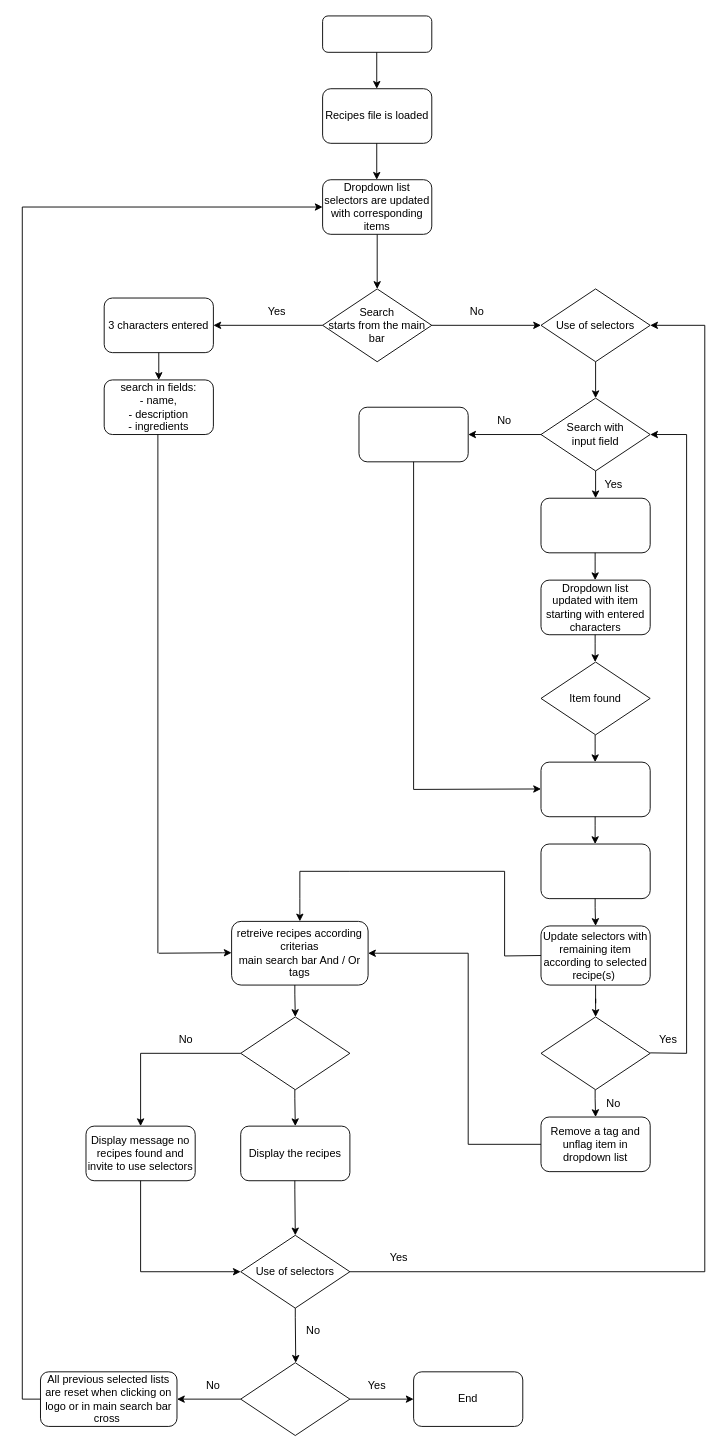
Some shapes in this 728 by 1451 pixel diagram are drawn without their labels. Here are the shapes that lost their labels. From the top down, the centre of each, then its label:
At (x=377, y=33): "Page is launched".
At (x=413, y=434): "Select an item in dropdown list".
At (x=595, y=525): "1 or more characters entered".
At (x=595, y=789): "Click on item".
At (x=595, y=871): "create/display tag / flag item in list as selected".
At (x=295, y=1053): "Recipe(s) found".
At (x=595, y=1053): "Select a new tag".
At (x=295, y=1399): "Start a new search".
